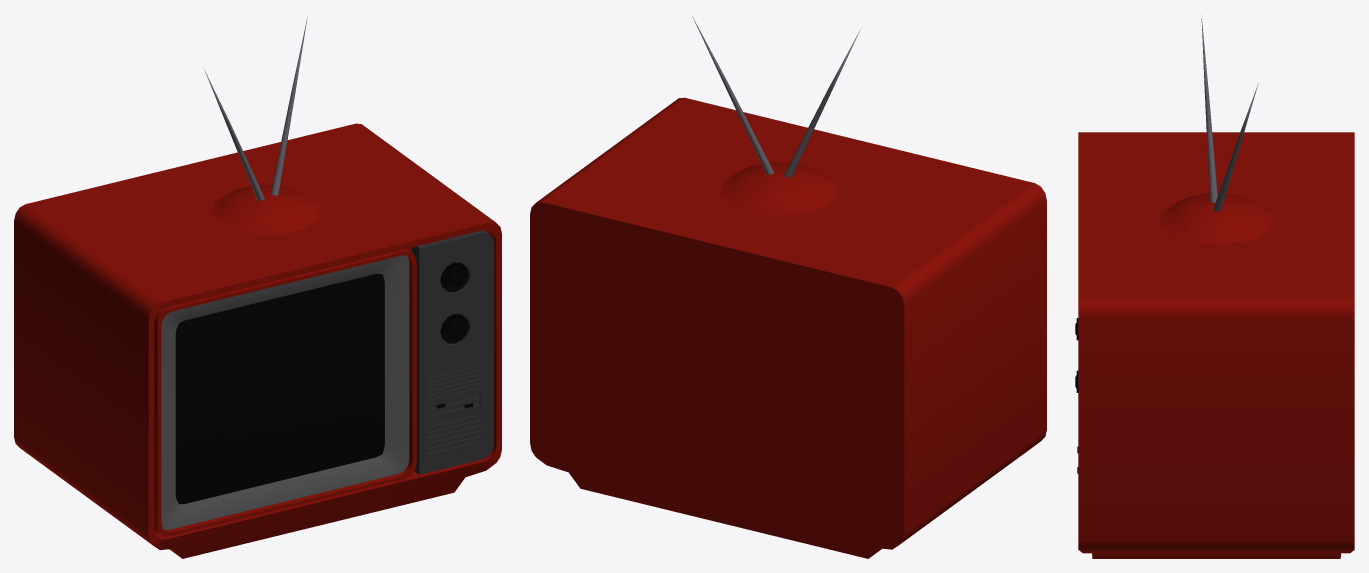
3 renders of one model, left to right at view 1: azimuth 30°, elevation 25°; view 2: azimuth 150°, elevation 25°; view 3: azimuth 270°, elevation 25°, orthographic. The views are drawn at different scales.
Visible parts, largest first — view 1: TV; view 2: TV; view 3: TV.
Boxes of the visible parts, <box> form: TV: <box>14,17,501,558</box>; TV: <box>530,16,1046,558</box>; TV: <box>1075,18,1354,558</box>.
Size of the model in its own units: 303 by 356 by 202.
